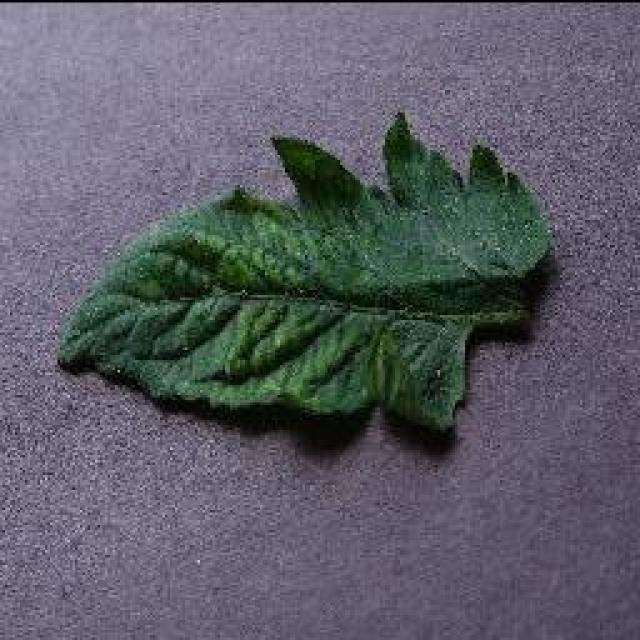Tomato___Tomato_mosaic_virus: (58, 112, 550, 430)
